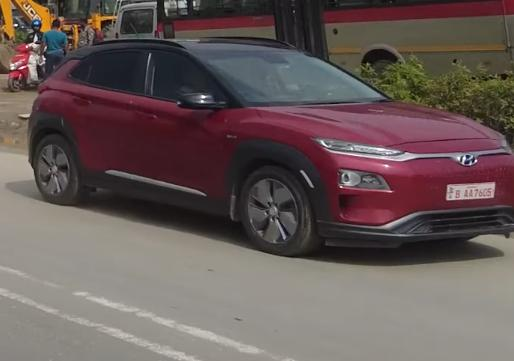car: (31, 28, 514, 280)
scooter: (7, 42, 36, 92)
